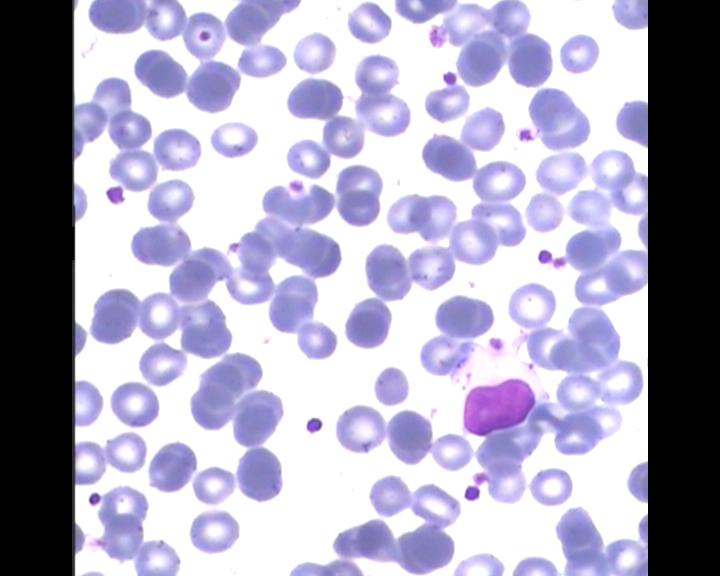mono: (443, 342, 546, 443)
